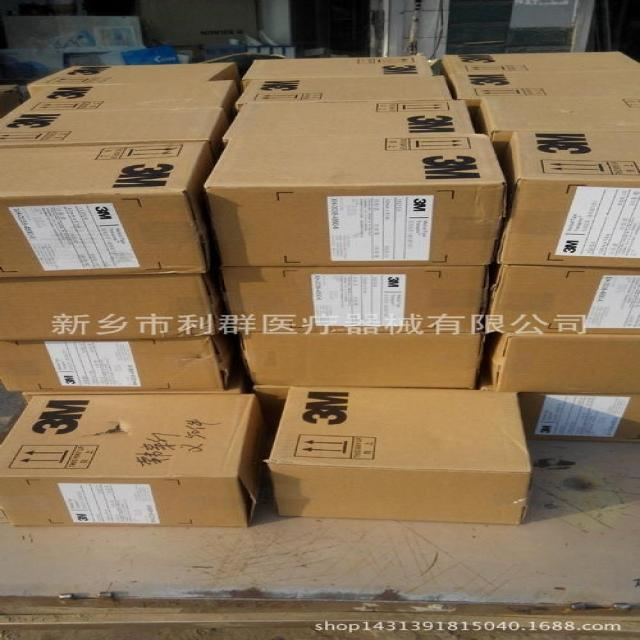box: (204, 134, 506, 267), (264, 386, 531, 523), (3, 394, 271, 525), (0, 139, 227, 281), (492, 133, 639, 268), (218, 266, 492, 332), (0, 271, 232, 339), (1, 332, 250, 393), (237, 330, 484, 388), (489, 267, 639, 334), (221, 99, 476, 138), (3, 107, 236, 148), (493, 333, 637, 396), (13, 80, 243, 112), (27, 63, 237, 95), (466, 97, 640, 135), (236, 76, 454, 105), (521, 390, 640, 441), (449, 71, 640, 99), (440, 50, 639, 76), (241, 54, 435, 80), (253, 386, 294, 432)
